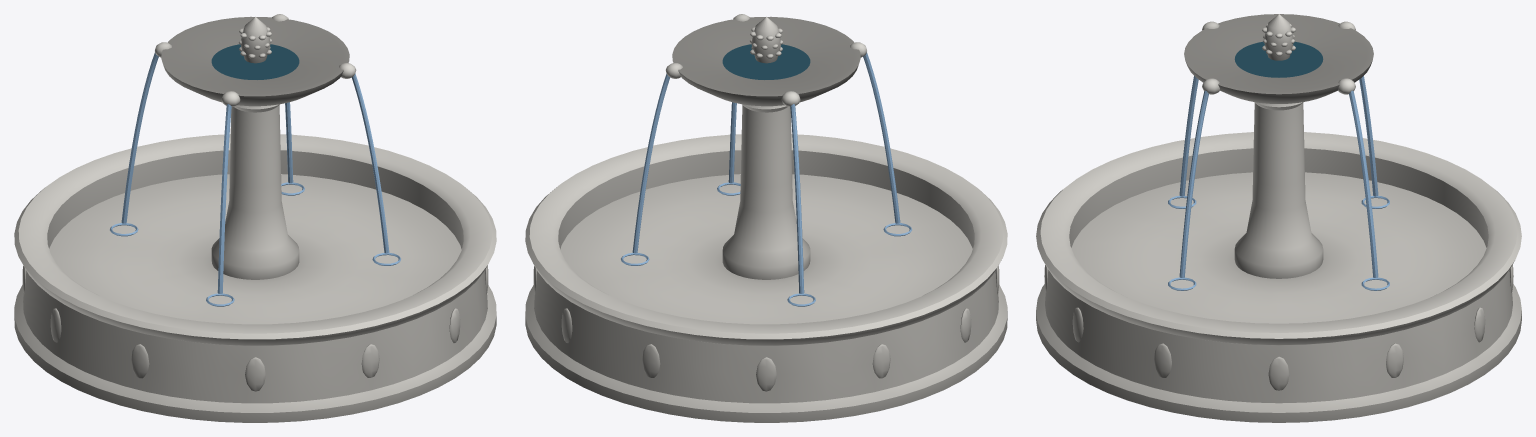
File: obj_kit_fountain.glb
The picture shows the model from 3 angles, left to right: view 1: azimuth 30°, elevation 25°; view 2: azimuth 150°, elevation 25°; view 3: azimuth 270°, elevation 25°; orthographic projection.
Parts seen in each view (by area): view 1: basin, ped, upper, Cylinder, jet.002, jet.003, jet.001, cone, Sphere.036, Sphere.035, Sphere.037, jet; view 2: basin, ped, upper, Cylinder, jet.001, jet, jet.002, cone, Sphere.032, Sphere.033, Sphere.031, jet.003; view 3: basin, ped, upper, Cylinder, jet, jet.003, cone, jet.001, jet.002, Sphere.028, Sphere.029, Sphere.039.
Part boxes in pixels (x1,y1,x2,y2): basin: (14, 134, 496, 422); ped: (211, 104, 299, 279); upper: (161, 16, 349, 106); Cylinder: (211, 44, 299, 79); jet.002: (217, 104, 231, 293); jet.003: (351, 73, 389, 253); jet.001: (121, 52, 158, 223); cone: (241, 17, 270, 63); Sphere.036: (245, 357, 265, 391); Sphere.035: (131, 344, 149, 378); Sphere.037: (361, 344, 379, 377); jet: (285, 102, 293, 183); basin: (525, 134, 1007, 422); ped: (722, 104, 810, 279); upper: (672, 16, 860, 106); Cylinder: (722, 44, 810, 79); jet.001: (790, 104, 804, 293); jet: (632, 73, 670, 253); jet.002: (863, 52, 900, 223); cone: (751, 17, 780, 63); Sphere.032: (756, 357, 776, 391); Sphere.033: (872, 344, 890, 378); Sphere.031: (642, 344, 660, 377); jet.003: (728, 102, 736, 183); basin: (1036, 132, 1521, 422); ped: (1234, 102, 1323, 278); upper: (1184, 14, 1373, 103); Cylinder: (1234, 41, 1323, 77); jet: (1349, 90, 1378, 277); jet.003: (1179, 90, 1208, 277); cone: (1263, 14, 1294, 60); jet.001: (1359, 76, 1378, 196); jet.002: (1179, 76, 1198, 196); Sphere.028: (1268, 356, 1289, 390); Sphere.029: (1386, 343, 1403, 377); Sphere.039: (1154, 343, 1171, 377).
Size of the model in its own units: 2.2 by 1.53 by 2.2.
